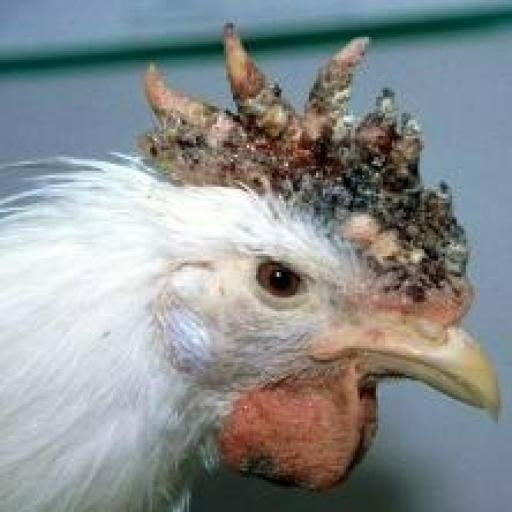disease: (117, 24, 482, 310)
